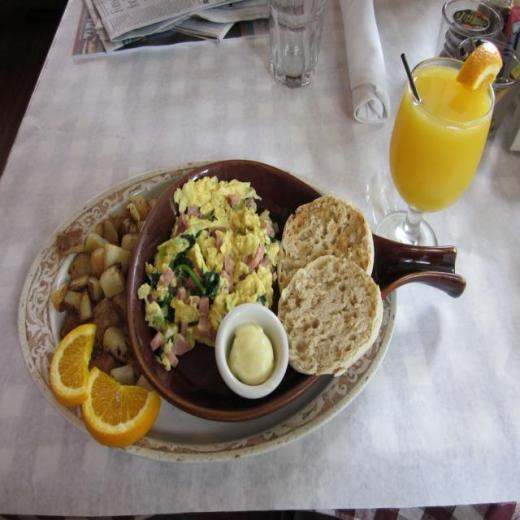Grape: (80, 363, 162, 447), (48, 330, 93, 408)
